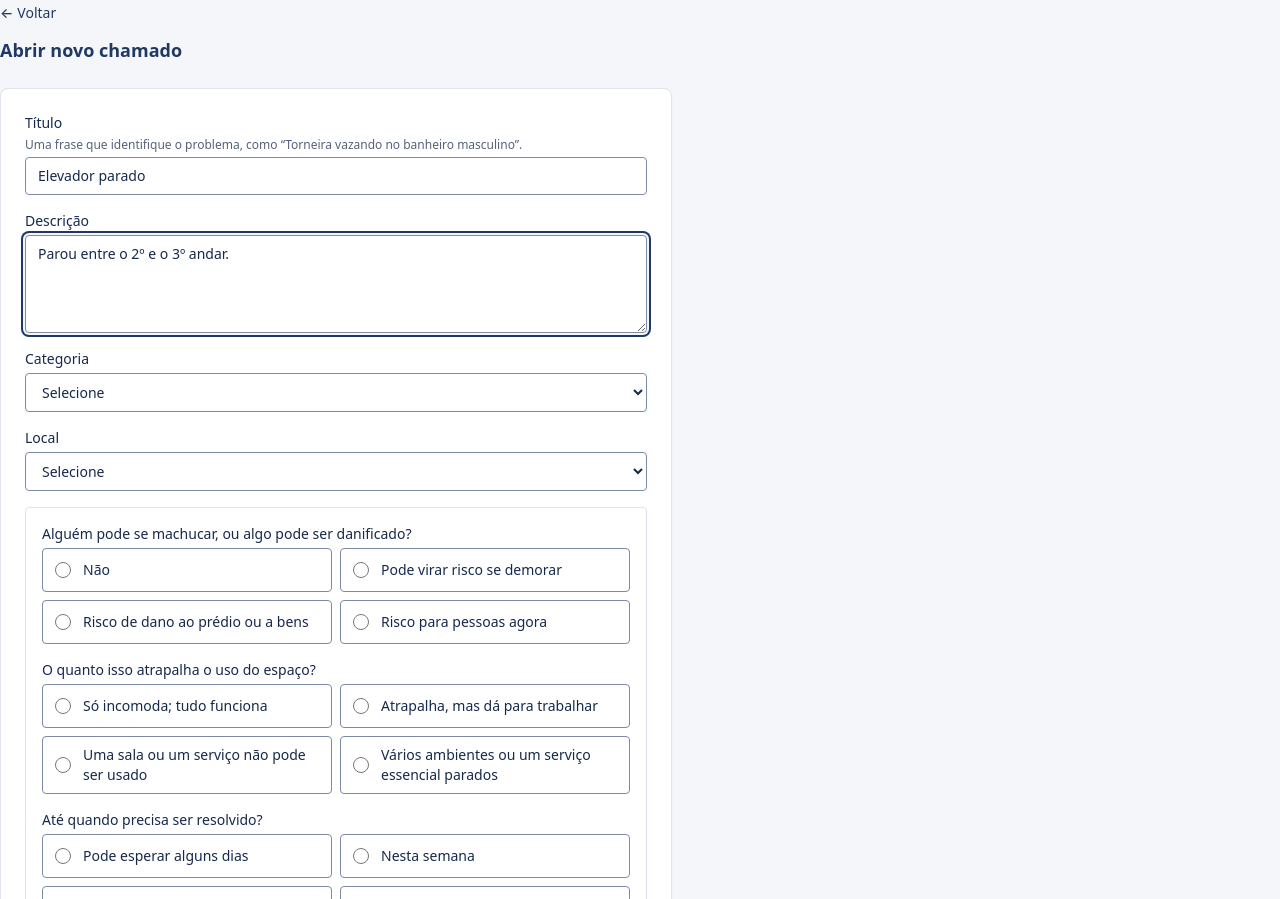
Test: Situação do chamado (urgência, impacto e risco) › envia urgência, impacto e risco como números e nenhuma prioridade
Earlier steps of the test are not shown.
Select "elétrica" in the dropdown labelled "Categoria" at x=336, y=392, box [25, 373, 647, 412]
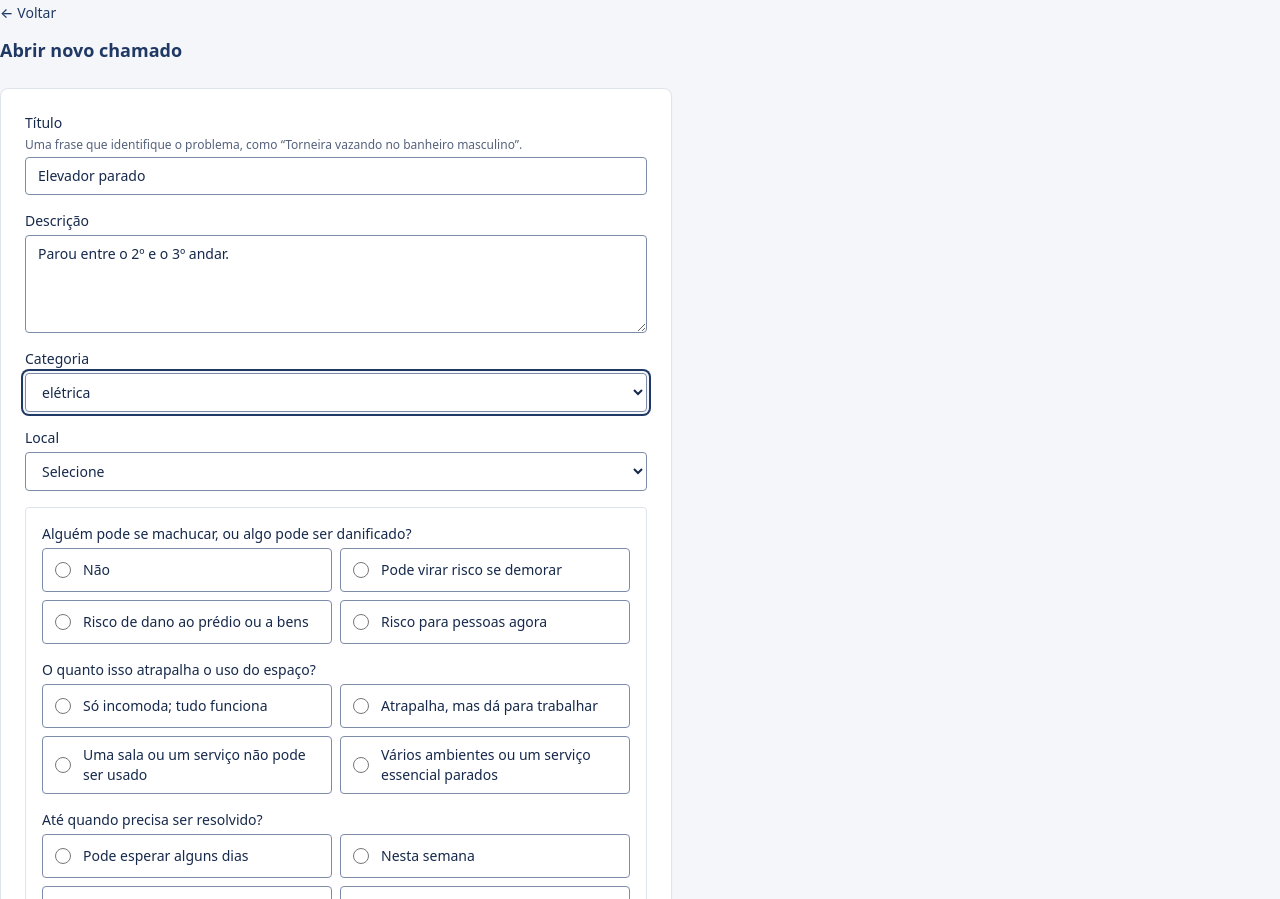
Select "Prédio A" in the dropdown labelled "Local" at x=336, y=472, box [25, 452, 647, 491]
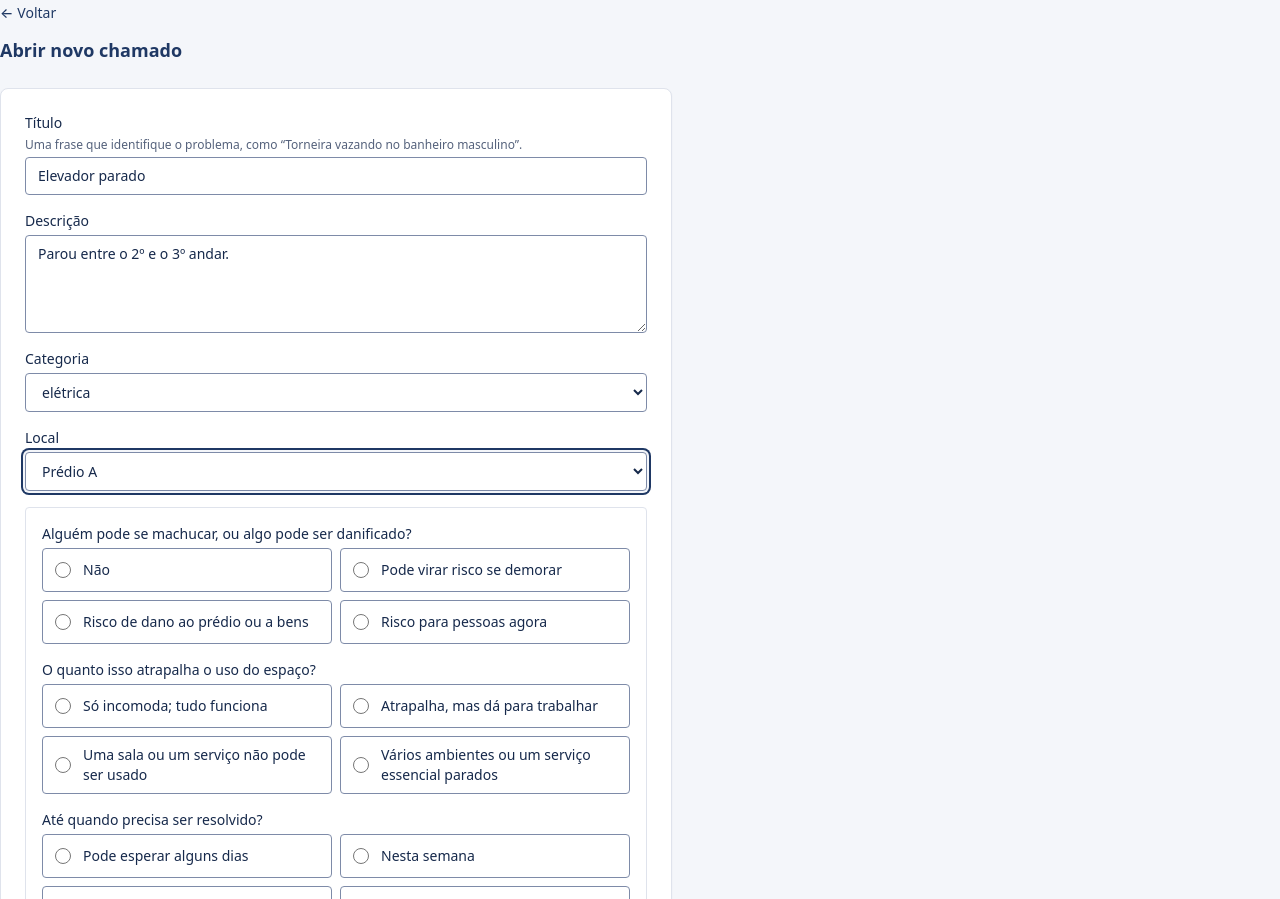
Click the radio button labelled "Risco para pessoas agora" at x=361, y=622, box [353, 614, 369, 630]
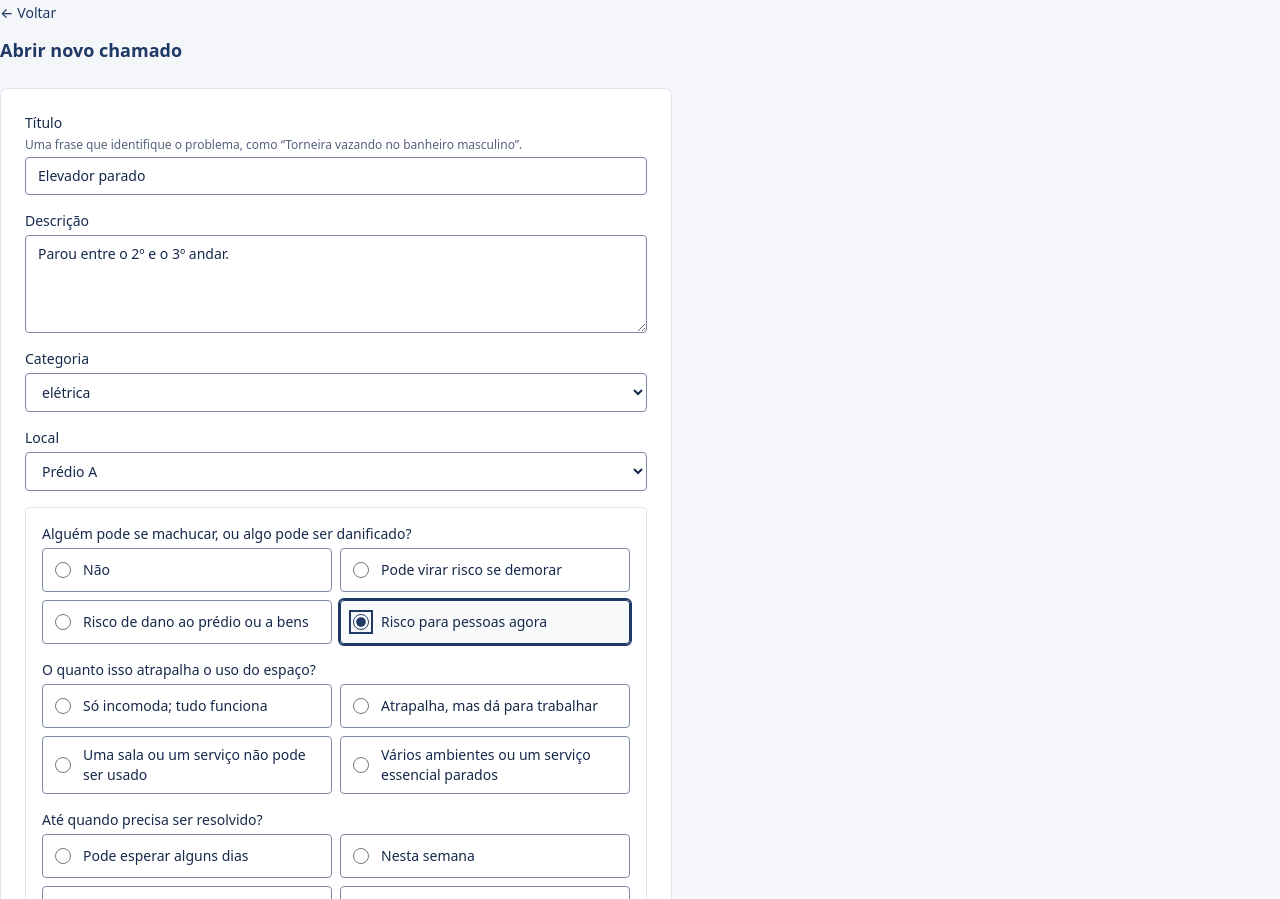
Click the radio button labelled "Uma sala ou um serviço não pode ser usado" at x=63, y=765, box [55, 757, 71, 773]
(page scrolled)
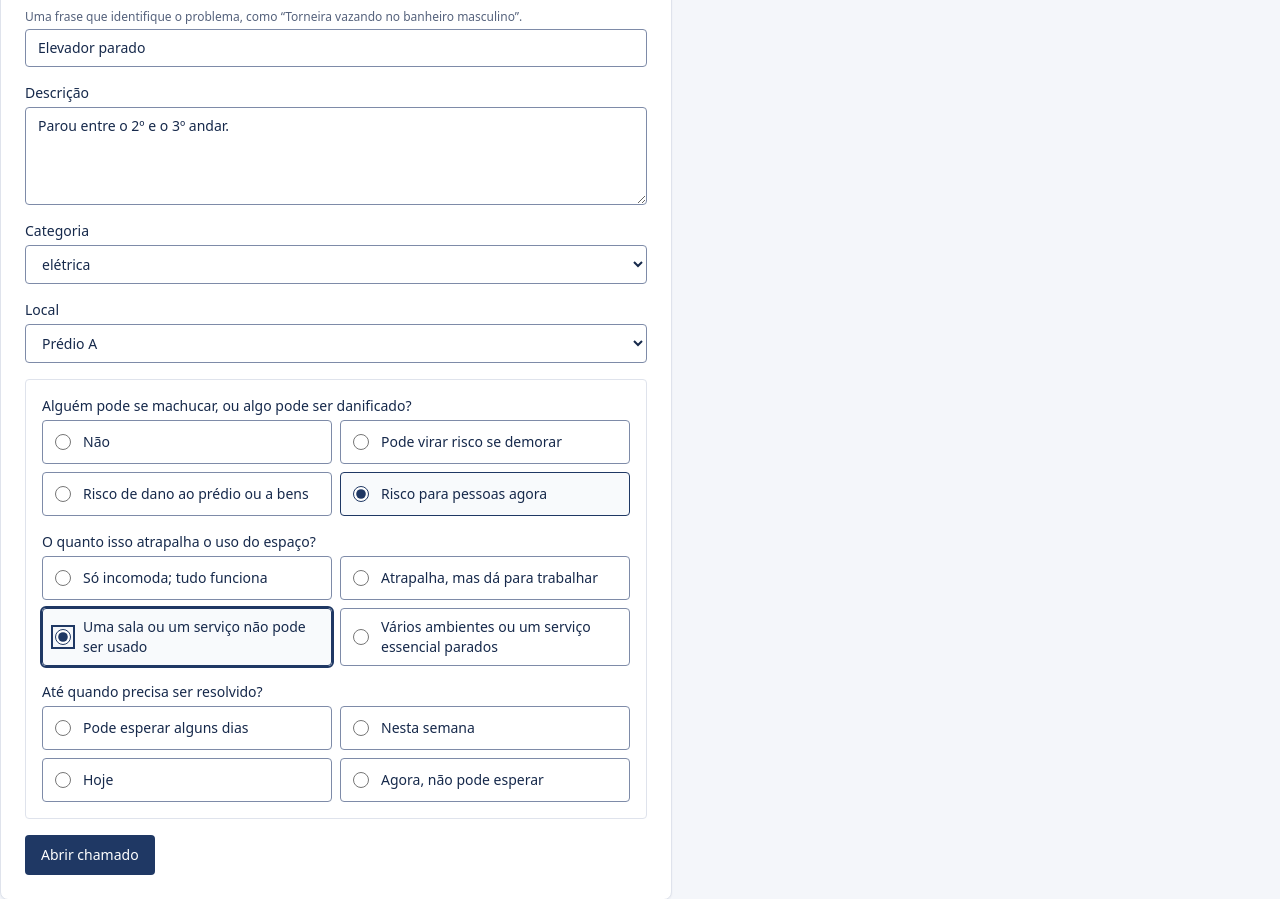
Click the radio button labelled "Agora, não pode esperar" at x=361, y=780, box [353, 772, 369, 788]
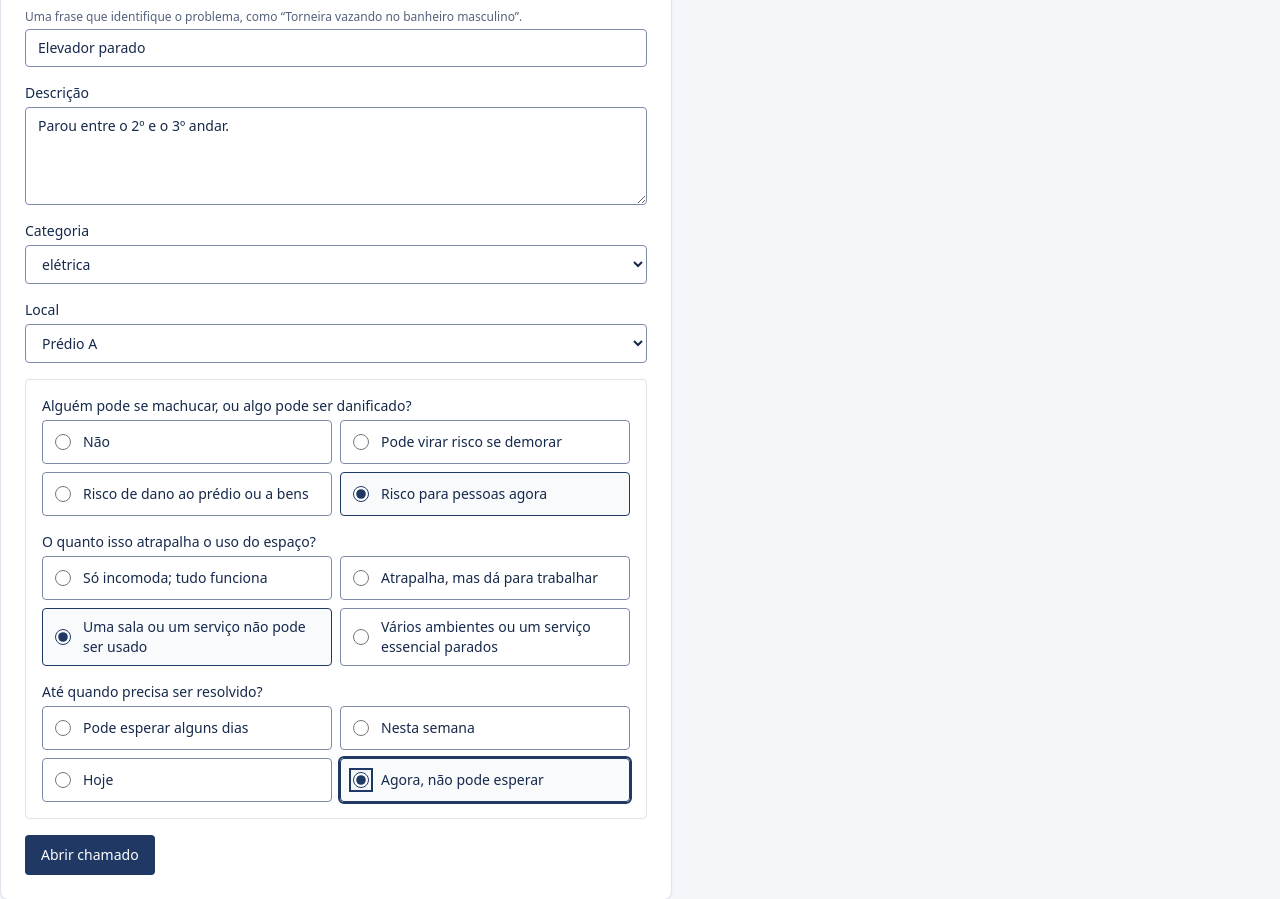
Click the button "Abrir chamado" at x=90, y=855, box [25, 835, 155, 875]
(page scrolled)
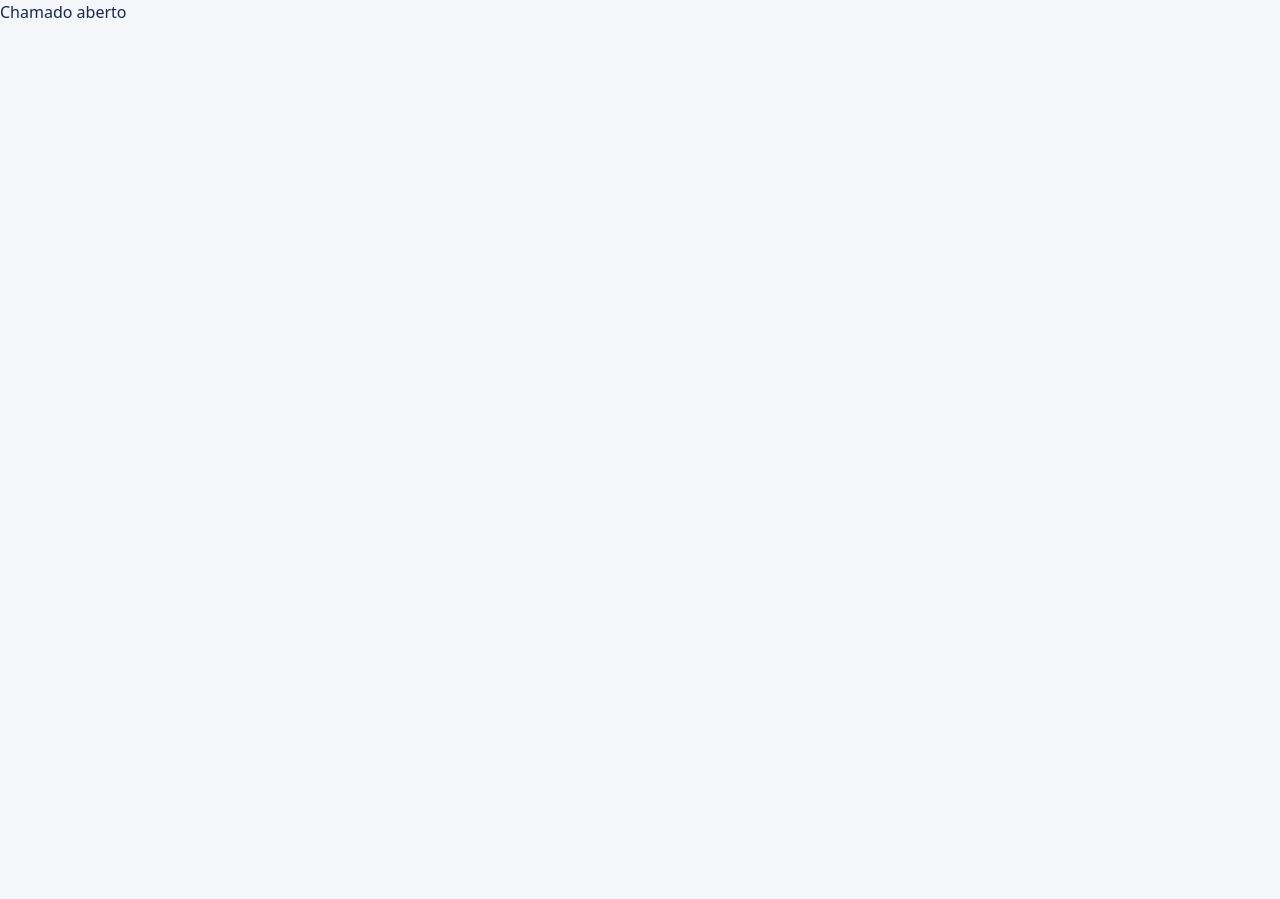
expect the text "Chamado aberto" is shown: met, box [0, 1, 126, 23]
